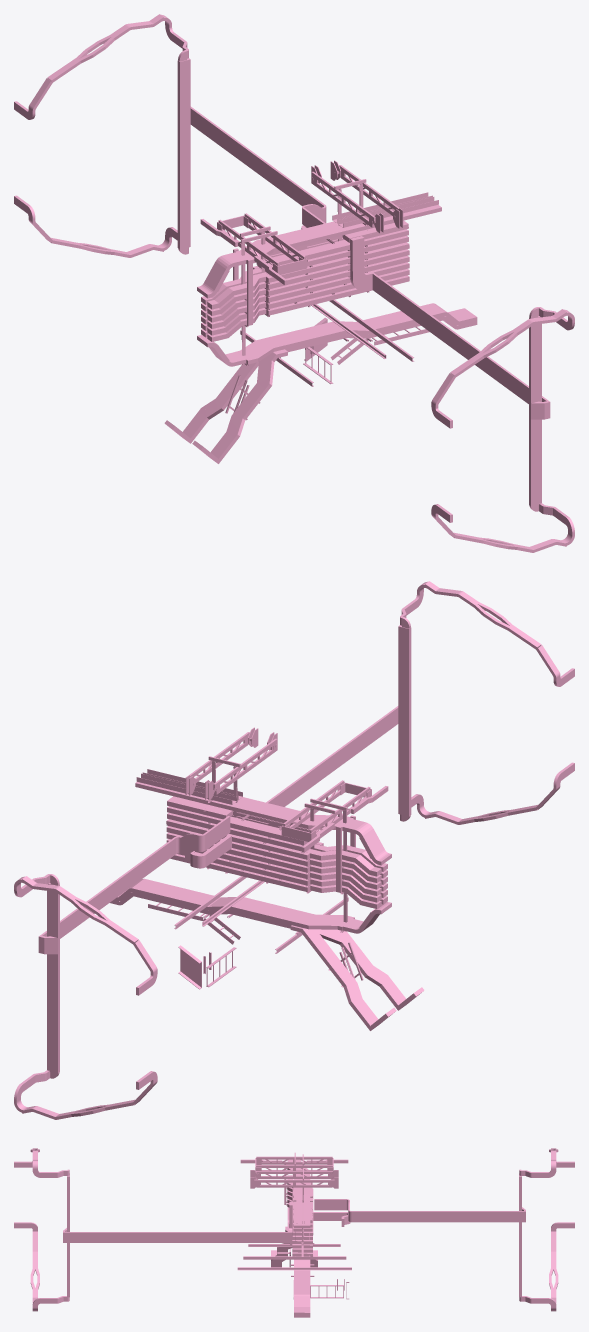
Rendered from Serv-Z0-Sec1.glb.
The picture shows the model from 3 angles, top to bottom: view 1: azimuth 30°, elevation 25°; view 2: azimuth 150°, elevation 25°; view 3: azimuth 270°, elevation 25°; orthographic projection. The views are drawn at different scales.
Visible parts, largest first — view 1: Serv-Z0-Sec1-Cables, Serv-Z0-Sec1-Trays; view 2: Serv-Z0-Sec1-Cables, Serv-Z0-Sec1-Trays; view 3: Serv-Z0-Sec1-Cables, Serv-Z0-Sec1-Trays.
Boxes of the visible parts, x1=… form: Serv-Z0-Sec1-Cables: x1=14, y1=14, x2=574, y2=552; Serv-Z0-Sec1-Trays: x1=217, y1=160, x2=438, y2=420; Serv-Z0-Sec1-Cables: x1=14, y1=581, x2=574, y2=1119; Serv-Z0-Sec1-Trays: x1=136, y1=727, x2=371, y2=989; Serv-Z0-Sec1-Cables: x1=14, y1=1148, x2=574, y2=1317; Serv-Z0-Sec1-Trays: x1=237, y1=1152, x2=351, y2=1299.
Bounding box in the file's own units: 8.05 × 6.49 × 20.65.
